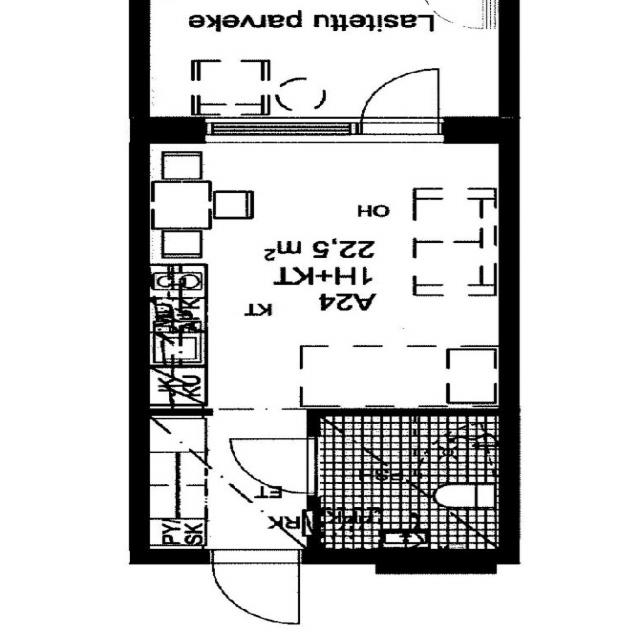door: (211, 549, 299, 625), (361, 62, 439, 143), (228, 438, 317, 493)
